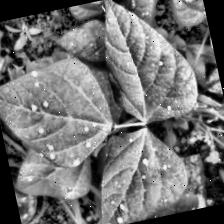Bean Rust: (0, 50, 122, 178), (91, 0, 202, 129), (76, 121, 191, 224), (6, 134, 101, 212), (106, 188, 211, 224), (164, 0, 207, 29)
